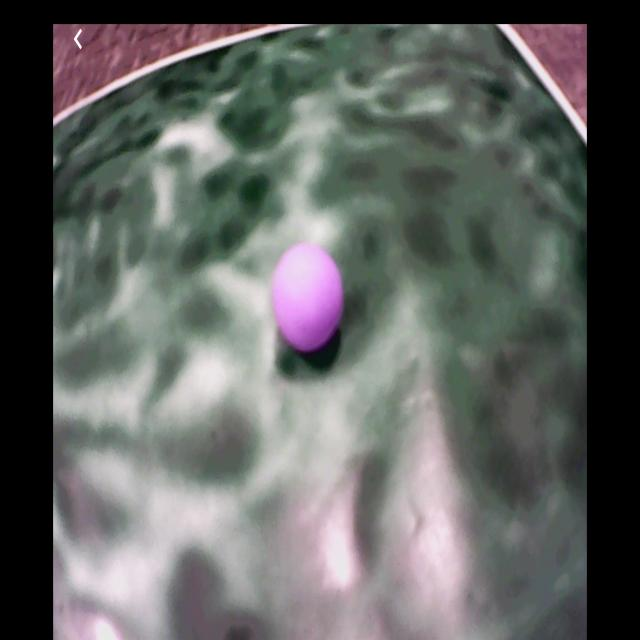ball: (274, 246, 345, 349)
